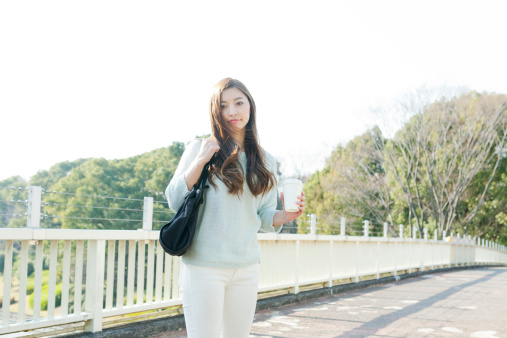em pe: (169, 70, 287, 338)
